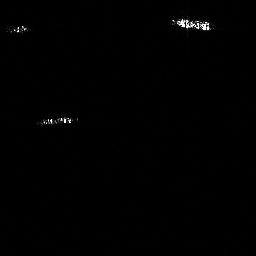ship: (167, 14, 215, 33), (37, 113, 80, 128)
